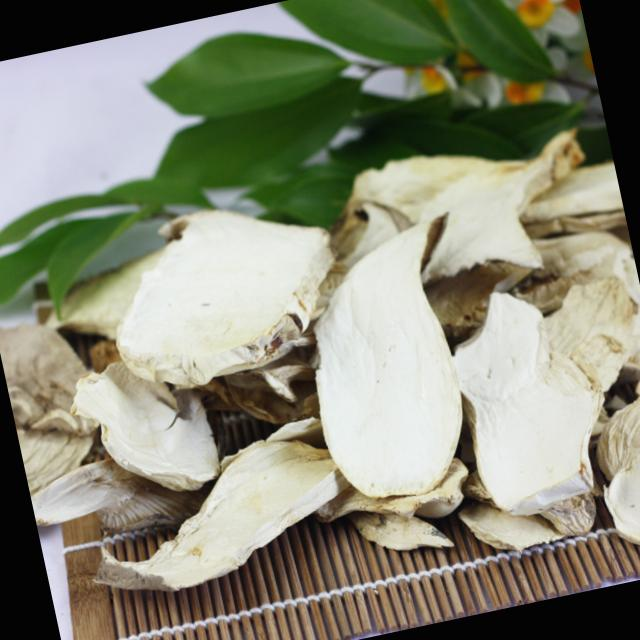Pleurotus eryngii: (270, 186, 518, 544)
